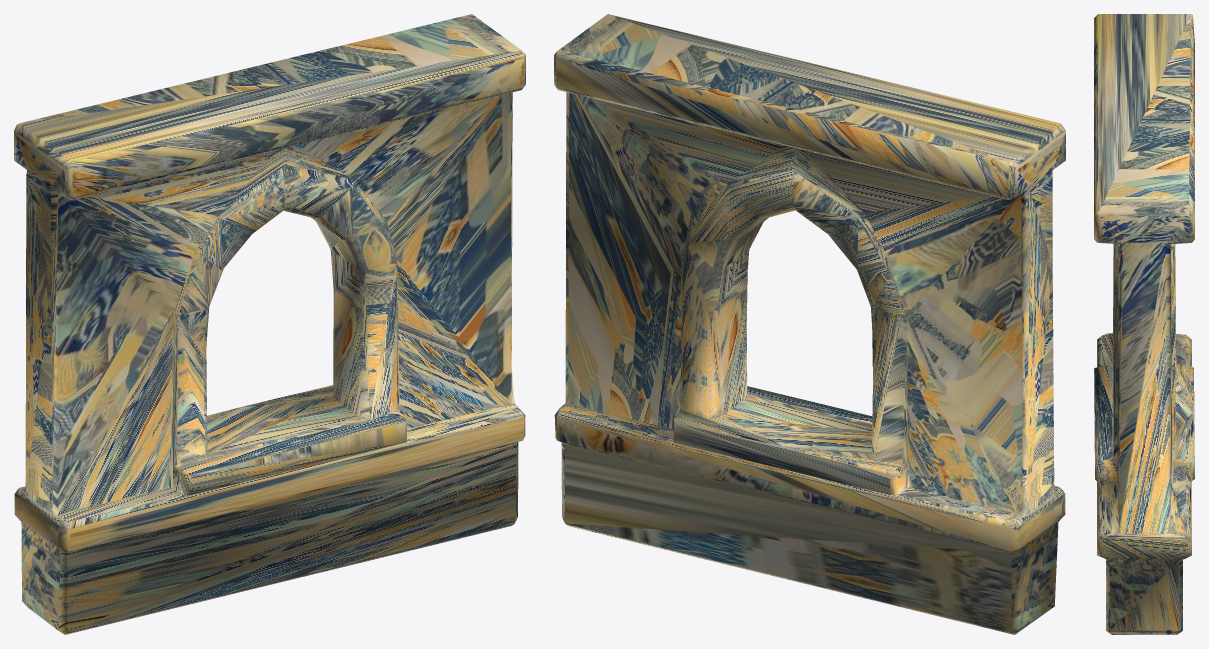
The model's file is wall.glb.
The picture shows the model from 3 angles, left to right: view 1: azimuth 30°, elevation 25°; view 2: azimuth 150°, elevation 25°; view 3: azimuth 270°, elevation 25°; orthographic projection. The views are drawn at different scales.
Parts seen in each view (by area): view 1: wall; view 2: wall; view 3: wall.
Part boxes in pixels (x1,y1,x2,y2): wall: [14, 14, 525, 634]; wall: [554, 14, 1065, 634]; wall: [1094, 14, 1194, 634].
Size of the model in its own units: 1.91 by 1.88 by 0.403.
Materials: 1 (1 with a texture image).
